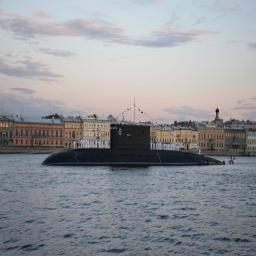submarine: (44, 123, 227, 167)
